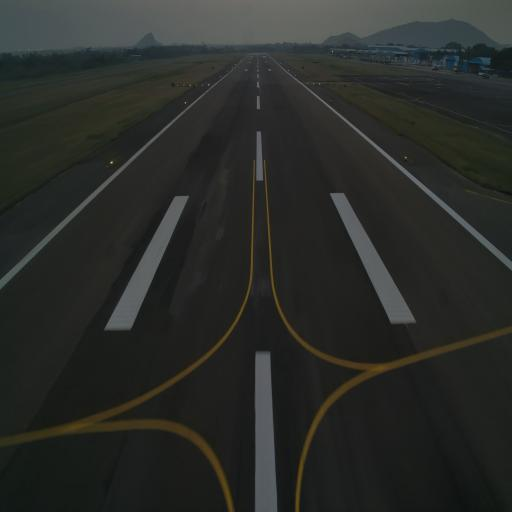on: (109, 158, 115, 166), (404, 154, 408, 161), (183, 100, 187, 106), (328, 98, 332, 104)
